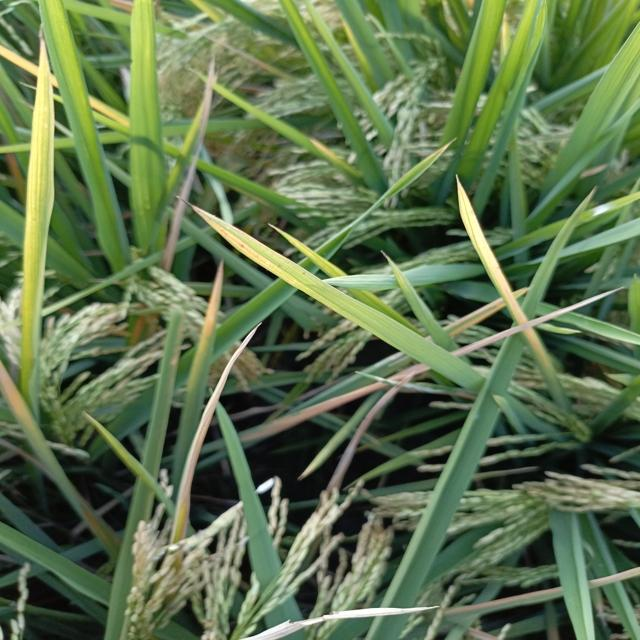Brown spot: (448, 167, 590, 389), (156, 319, 266, 551), (174, 193, 328, 306), (174, 254, 234, 398), (438, 278, 537, 343)
